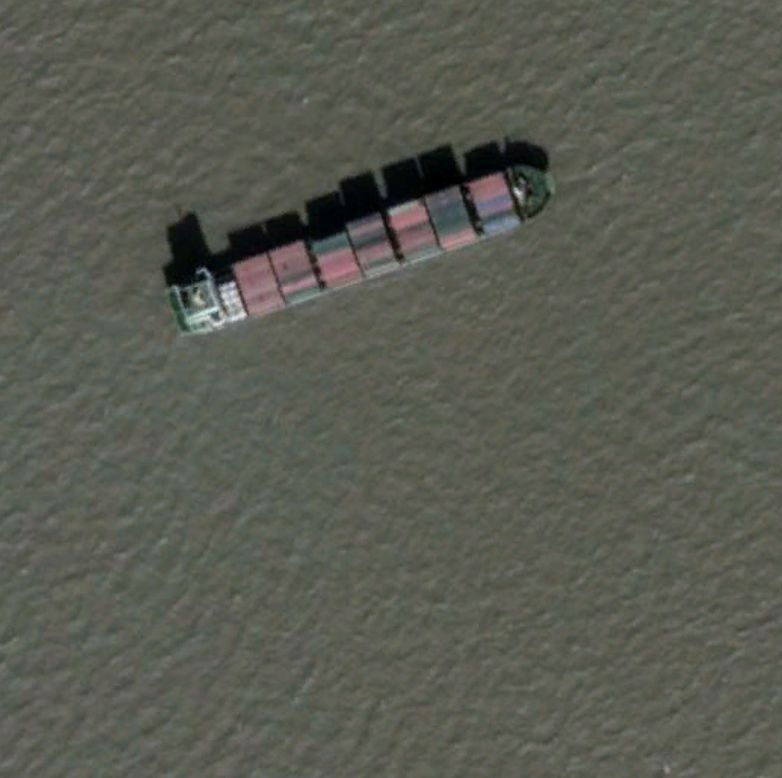boat: (167, 158, 556, 337)
